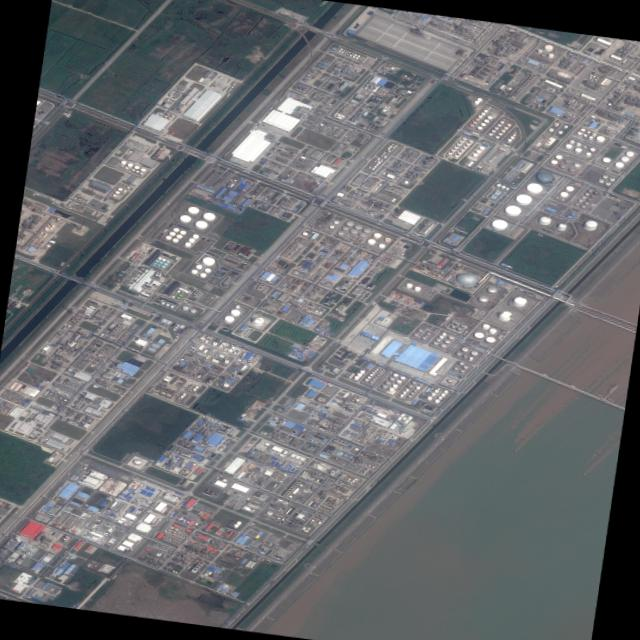storage-tank: (454, 271, 478, 287), (535, 170, 553, 182), (503, 204, 520, 215), (490, 218, 507, 229), (514, 193, 531, 204), (525, 182, 542, 193), (201, 211, 215, 220), (584, 219, 597, 228), (201, 256, 214, 265), (194, 219, 207, 228), (513, 296, 526, 305), (186, 205, 198, 214), (538, 215, 551, 223), (498, 310, 511, 318), (178, 214, 190, 222), (252, 316, 264, 324), (477, 295, 488, 302), (486, 286, 497, 293), (223, 315, 233, 322), (473, 331, 483, 338), (484, 336, 494, 343), (229, 309, 239, 315), (344, 220, 353, 226), (361, 227, 370, 233), (366, 238, 375, 244), (372, 232, 381, 238), (543, 44, 552, 50), (595, 135, 604, 141), (601, 157, 610, 163), (614, 161, 623, 167), (132, 458, 141, 464), (558, 222, 566, 228), (559, 191, 567, 197), (565, 185, 573, 191), (358, 231, 366, 237), (349, 228, 357, 234), (619, 156, 628, 161), (353, 224, 361, 229), (549, 159, 557, 164), (554, 154, 562, 159), (573, 147, 581, 152), (625, 151, 633, 156), (265, 510, 273, 515), (421, 161, 428, 166), (336, 230, 343, 235), (341, 225, 348, 230), (377, 243, 384, 248), (568, 167, 575, 172), (558, 163, 565, 168), (572, 162, 579, 167), (563, 158, 570, 163), (564, 143, 571, 148), (171, 237, 178, 242), (470, 350, 477, 355), (460, 346, 467, 351), (203, 267, 210, 272), (194, 264, 201, 269), (482, 323, 489, 328), (301, 231, 307, 236), (172, 227, 178, 232), (199, 272, 205, 277), (189, 308, 195, 313), (132, 165, 139, 169), (183, 242, 190, 246), (187, 238, 194, 242), (191, 234, 198, 238), (405, 283, 412, 287), (383, 237, 390, 241), (413, 286, 420, 290), (588, 147, 595, 151), (178, 230, 185, 234), (190, 269, 197, 273), (439, 343, 446, 347), (443, 339, 450, 343), (164, 235, 171, 239), (488, 328, 495, 332), (113, 190, 119, 194), (139, 167, 145, 171), (175, 234, 181, 238), (547, 127, 553, 131), (547, 53, 553, 57), (479, 122, 485, 126), (475, 149, 481, 153), (482, 119, 488, 123), (486, 115, 492, 119), (473, 100, 479, 104), (352, 375, 358, 379), (446, 378, 452, 382), (358, 369, 364, 373), (455, 351, 461, 355), (424, 331, 430, 335), (181, 305, 187, 309), (168, 231, 174, 235), (447, 335, 453, 339), (410, 380, 416, 384), (391, 383, 397, 387), (381, 384, 387, 388), (120, 160, 125, 164), (332, 220, 337, 224), (580, 204, 585, 208), (582, 201, 587, 205), (593, 190, 598, 194), (586, 188, 591, 192), (604, 181, 609, 185), (116, 187, 121, 191), (438, 270, 443, 274), (576, 131, 581, 135), (562, 124, 567, 128), (608, 177, 613, 181), (471, 120, 476, 124), (474, 117, 479, 121), (476, 97, 481, 101), (568, 139, 573, 143), (233, 523, 238, 527), (235, 520, 240, 524), (305, 526, 310, 530), (214, 272, 219, 276), (216, 269, 221, 273), (456, 326, 461, 330), (395, 379, 400, 383), (388, 387, 393, 391), (223, 359, 228, 363), (65, 324, 70, 328), (126, 163, 132, 166), (424, 159, 430, 162), (597, 179, 603, 182), (590, 132, 596, 135), (536, 49, 542, 52), (478, 146, 484, 149), (476, 126, 482, 129), (584, 152, 590, 155), (433, 399, 439, 402), (384, 381, 390, 384), (415, 385, 419, 389), (328, 225, 333, 228), (500, 185, 505, 188), (495, 183, 500, 186), (580, 196, 585, 199), (589, 195, 594, 198), (583, 192, 588, 195), (428, 156, 433, 159), (397, 191, 402, 194), (422, 263, 427, 266), (434, 269, 439, 272), (435, 274, 440, 277), (579, 128, 584, 131), (553, 122, 558, 125), (587, 135, 592, 138), (467, 139, 472, 142), (506, 138, 511, 141), (509, 135, 514, 138), (602, 175, 607, 178), (464, 142, 469, 145), (472, 153, 477, 156), (162, 114, 167, 117), (498, 120, 503, 123), (482, 109, 487, 112), (575, 142, 580, 145), (426, 396, 431, 399), (433, 389, 438, 392), (353, 447, 358, 450), (173, 528, 178, 531), (168, 526, 173, 529), (356, 373, 361, 376), (452, 367, 457, 370), (462, 365, 467, 368), (458, 361, 463, 364), (234, 305, 239, 308), (412, 333, 417, 336), (416, 328, 421, 331), (420, 336, 425, 339), (162, 262, 167, 265), (43, 227, 48, 230), (438, 335, 443, 338), (450, 324, 455, 327), (164, 260, 169, 263), (407, 384, 412, 387), (399, 376, 404, 379), (392, 373, 397, 376), (389, 377, 394, 380), (211, 342, 216, 345), (203, 339, 208, 342), (39, 110, 43, 113), (577, 199, 581, 202), (586, 198, 590, 201), (389, 188, 393, 191), (403, 180, 407, 183), (123, 166, 127, 169), (383, 258, 387, 261), (431, 272, 435, 275), (427, 265, 431, 268), (585, 130, 589, 133), (557, 130, 561, 133), (540, 53, 544, 56), (582, 134, 586, 137), (386, 149, 390, 152), (458, 140, 462, 143), (461, 137, 465, 140), (469, 123, 473, 126), (494, 135, 498, 138), (487, 132, 491, 135), (490, 129, 494, 132), (497, 132, 501, 135), (500, 129, 504, 132), (493, 126, 497, 129), (503, 126, 507, 129), (511, 133, 515, 136), (167, 116, 171, 119), (165, 112, 169, 115), (453, 154, 457, 157), (447, 151, 451, 154), (456, 151, 460, 154), (459, 148, 463, 151), (462, 145, 466, 148), (496, 123, 500, 126), (480, 112, 484, 115), (477, 115, 481, 118), (430, 392, 434, 395), (333, 438, 337, 441), (332, 426, 336, 429), (304, 529, 308, 532), (462, 354, 466, 357), (63, 535, 67, 538), (62, 537, 66, 540), (320, 307, 324, 310), (316, 306, 320, 309), (313, 309, 317, 312), (160, 301, 164, 304), (164, 303, 168, 306), (175, 296, 179, 299), (432, 341, 436, 344), (435, 338, 439, 341), (50, 224, 54, 227), (441, 332, 445, 335), (459, 324, 463, 327), (160, 258, 164, 261), (45, 244, 49, 247), (368, 373, 372, 376), (369, 380, 373, 383), (363, 378, 367, 381), (113, 328, 117, 331), (169, 114, 174, 116), (452, 146, 457, 148), (156, 257, 161, 259), (353, 190, 356, 193), (505, 187, 508, 190), (531, 74, 534, 77), (529, 76, 532, 79), (514, 92, 517, 95), (516, 90, 519, 93), (518, 88, 521, 91), (520, 86, 523, 89), (522, 84, 525, 87), (166, 98, 169, 101), (353, 477, 356, 480), (371, 465, 374, 468), (344, 442, 347, 445), (175, 532, 178, 535), (257, 286, 260, 289), (317, 287, 320, 290), (158, 261, 161, 264), (371, 371, 374, 374), (192, 348, 195, 351), (194, 385, 197, 388), (351, 193, 355, 195), (574, 203, 578, 205), (376, 161, 380, 163), (393, 190, 397, 192), (384, 187, 388, 189), (290, 243, 294, 245), (369, 257, 373, 259), (111, 194, 115, 196), (138, 172, 142, 174), (385, 256, 389, 258), (523, 82, 527, 84), (525, 80, 529, 82), (450, 149, 454, 151), (506, 123, 510, 125), (290, 486, 294, 488), (295, 480, 299, 482), (310, 519, 314, 521), (366, 464, 370, 466), (437, 396, 441, 398), (440, 393, 444, 395), (443, 390, 447, 392), (328, 425, 332, 427), (80, 421, 84, 423), (58, 397, 62, 399), (409, 392, 413, 394), (307, 522, 311, 524), (459, 370, 463, 372), (468, 357, 472, 359), (194, 566, 198, 568), (196, 564, 200, 566), (407, 395, 411, 397), (412, 389, 416, 391), (317, 311, 321, 313), (160, 265, 164, 267), (154, 260, 158, 262), (169, 305, 173, 307), (178, 294, 182, 296), (48, 227, 52, 229), (48, 222, 52, 224), (453, 322, 457, 324), (354, 399, 358, 401), (73, 346, 77, 348), (418, 383, 422, 385), (404, 388, 408, 390), (402, 391, 406, 393), (366, 376, 370, 378), (190, 350, 194, 352), (173, 326, 177, 328), (115, 326, 119, 328), (179, 395, 183, 397), (181, 393, 185, 395), (76, 363, 80, 365), (357, 192, 360, 194), (169, 132, 172, 134), (170, 130, 173, 132), (266, 134, 269, 136), (345, 200, 348, 202), (342, 199, 345, 201), (317, 224, 320, 226), (382, 156, 385, 158), (373, 165, 376, 167), (376, 158, 379, 160), (379, 154, 382, 156), (352, 242, 355, 244), (354, 243, 357, 245), (358, 239, 361, 241), (355, 238, 358, 240), (229, 244, 232, 246), (230, 242, 233, 244), (282, 252, 285, 254), (284, 250, 287, 252), (285, 249, 288, 251), (287, 247, 290, 249), (289, 245, 292, 247), (371, 255, 374, 257), (387, 260, 390, 262), (121, 191, 124, 193), (122, 189, 125, 191), (125, 186, 128, 188), (120, 165, 123, 167), (131, 169, 134, 171), (135, 170, 138, 172), (389, 258, 392, 260), (550, 89, 553, 91), (399, 97, 402, 99), (354, 69, 357, 71), (492, 59, 495, 61), (607, 103, 610, 105), (512, 94, 515, 96), (528, 79, 531, 81), (351, 55, 354, 57), (353, 53, 356, 55), (348, 54, 351, 56), (623, 59, 626, 61), (621, 60, 624, 62), (591, 75, 594, 77), (617, 121, 620, 123), (386, 147, 389, 149), (391, 146, 394, 148), (388, 145, 391, 147), (390, 143, 393, 145), (456, 143, 459, 145), (547, 141, 550, 143), (549, 139, 552, 141), (299, 85, 302, 87), (307, 72, 310, 74), (311, 69, 314, 71), (487, 106, 490, 108), (582, 146, 585, 148), (283, 493, 286, 495), (285, 491, 288, 493), (287, 489, 290, 491), (292, 484, 295, 486), (294, 482, 297, 484), (301, 473, 304, 475), (303, 471, 306, 473), (347, 478, 350, 480), (334, 457, 337, 459), (175, 450, 178, 452), (373, 464, 376, 466), (374, 453, 377, 455), (436, 387, 439, 389), (366, 415, 369, 417), (340, 441, 343, 443), (337, 440, 340, 442), (325, 423, 328, 425), (62, 399, 65, 401), (309, 521, 312, 523), (175, 542, 178, 544), (170, 540, 173, 542), (167, 539, 170, 541), (164, 538, 167, 540), (179, 534, 182, 536), (172, 531, 175, 533), (167, 529, 170, 531), (198, 562, 201, 564), (171, 570, 174, 572), (192, 568, 195, 570), (276, 517, 279, 519), (311, 524, 314, 526), (260, 284, 263, 286), (282, 284, 285, 286), (283, 282, 286, 284), (286, 278, 289, 280), (288, 277, 291, 279), (313, 286, 316, 288), (152, 262, 155, 264), (171, 295, 174, 297), (172, 294, 175, 296), (174, 292, 177, 294), (180, 291, 183, 293), (176, 290, 179, 292), (37, 239, 40, 241), (35, 236, 38, 238), (42, 235, 45, 237), (43, 233, 46, 235), (39, 231, 42, 233), (46, 224, 49, 226), (56, 217, 59, 219), (34, 243, 37, 245), (156, 264, 159, 266), (373, 370, 376, 372), (376, 366, 379, 368), (350, 399, 353, 401), (349, 374, 352, 376), (181, 400, 184, 402), (378, 372, 381, 374), (375, 374, 378, 376), (399, 394, 402, 396), (371, 378, 374, 380), (373, 376, 376, 378), (209, 348, 212, 350), (172, 328, 175, 330), (175, 324, 178, 326), (111, 331, 114, 333), (118, 323, 121, 325), (75, 340, 78, 342), (78, 341, 81, 343), (71, 320, 74, 322), (192, 388, 195, 390), (190, 384, 193, 386), (84, 356, 87, 358), (94, 361, 97, 363), (92, 363, 95, 365), (90, 364, 93, 366), (79, 361, 82, 363), (82, 358, 85, 360), (268, 136, 270, 138), (266, 135, 268, 137), (305, 161, 307, 163), (238, 197, 240, 199), (555, 196, 557, 198), (371, 167, 373, 169), (368, 166, 370, 168), (375, 163, 377, 165), (373, 160, 375, 162), (379, 159, 381, 161), (357, 243, 359, 245), (360, 238, 362, 240), (365, 257, 367, 259), (228, 245, 230, 247), (396, 101, 398, 103), (400, 96, 402, 98), (365, 84, 367, 86), (520, 59, 522, 61), (568, 113, 570, 115), (359, 56, 361, 58), (350, 52, 352, 54), (347, 51, 349, 53), (346, 53, 348, 55), (343, 52, 345, 54), (345, 50, 347, 52), (342, 49, 344, 51), (589, 74, 591, 76), (513, 131, 515, 133), (546, 144, 548, 146), (544, 143, 546, 145), (314, 93, 316, 95), (363, 105, 365, 107), (271, 475, 273, 477), (330, 471, 332, 473), (277, 477, 279, 479), (370, 463, 372, 465), (71, 383, 73, 385), (73, 384, 75, 386), (75, 386, 77, 388), (72, 385, 74, 387), (174, 571, 176, 573), (278, 507, 280, 509), (313, 522, 315, 524), (39, 238, 41, 240), (36, 241, 38, 243), (44, 247, 46, 249), (380, 370, 382, 372), (375, 368, 377, 370), (348, 376, 350, 378), (160, 394, 162, 396), (183, 399, 185, 401), (185, 396, 187, 398), (169, 396, 171, 398), (196, 359, 198, 361), (207, 351, 209, 353), (201, 335, 203, 337), (86, 354, 88, 356), (187, 387, 189, 389), (92, 360, 94, 362), (348, 202, 351, 203), (560, 199, 563, 200), (357, 237, 360, 238), (312, 275, 315, 276), (292, 242, 295, 243), (369, 86, 372, 87), (551, 88, 554, 89), (356, 55, 359, 56), (354, 57, 357, 58), (340, 51, 343, 52), (593, 79, 596, 80), (352, 134, 355, 135), (302, 87, 305, 88), (309, 71, 312, 72), (364, 104, 367, 105), (289, 488, 292, 489), (351, 480, 354, 481), (322, 507, 325, 508), (179, 451, 182, 452), (184, 453, 187, 454), (279, 475, 282, 476), (212, 375, 215, 376), (186, 567, 189, 568), (31, 240, 34, 241), (33, 238, 36, 239), (40, 237, 43, 238), (186, 395, 189, 396), (170, 395, 173, 396), (188, 386, 191, 387), (87, 358, 90, 359), (271, 136, 273, 137), (269, 135, 271, 136), (270, 137, 272, 138), (307, 163, 309, 164), (302, 161, 304, 162), (272, 208, 274, 209), (239, 199, 241, 200), (240, 198, 242, 199), (239, 197, 241, 198), (356, 195, 358, 196), (335, 217, 337, 218), (273, 210, 275, 211), (274, 209, 276, 210), (271, 209, 273, 210), (301, 160, 303, 161), (304, 159, 306, 160), (309, 161, 311, 162), (384, 155, 386, 156), (381, 153, 383, 154), (386, 153, 388, 154), (238, 200, 240, 201), (355, 255, 357, 256), (363, 257, 365, 258), (366, 257, 368, 258), (364, 256, 366, 257), (310, 277, 312, 278), (311, 276, 313, 277), (369, 259, 371, 260), (272, 212, 274, 213), (270, 211, 272, 212), (120, 194, 122, 195), (118, 165, 120, 166), (549, 87, 551, 88), (397, 100, 399, 101), (398, 99, 400, 100), (358, 69, 360, 70), (356, 68, 358, 69), (353, 67, 355, 68), (348, 65, 350, 66), (572, 115, 574, 116), (433, 23, 435, 24), (430, 22, 432, 23), (358, 58, 360, 59), (337, 50, 339, 51), (435, 24, 437, 25), (431, 21, 433, 22), (595, 77, 597, 78), (588, 77, 590, 78), (572, 70, 574, 71), (436, 23, 438, 24), (573, 68, 575, 69), (574, 67, 576, 68), (575, 66, 577, 67), (394, 145, 396, 146), (486, 108, 488, 109), (313, 95, 315, 96), (274, 473, 276, 474), (349, 476, 351, 477), (331, 470, 333, 471), (272, 474, 274, 475), (277, 474, 279, 475), (276, 475, 278, 476), (320, 506, 322, 507), (186, 445, 188, 446), (183, 444, 185, 445), (181, 443, 183, 444), (177, 442, 179, 443), (182, 452, 184, 453), (187, 454, 189, 455), (281, 478, 283, 479), (280, 479, 282, 480), (278, 476, 280, 477), (274, 477, 276, 478), (67, 382, 69, 383), (251, 361, 253, 362), (248, 360, 250, 361), (233, 371, 235, 372), (210, 374, 212, 375), (208, 373, 210, 374), (226, 371, 228, 372), (227, 370, 229, 371), (228, 369, 230, 370), (69, 383, 71, 384), (364, 415, 366, 416), (76, 385, 78, 386), (70, 385, 72, 386), (67, 384, 69, 385), (65, 383, 67, 384), (326, 508, 328, 509), (173, 539, 175, 540), (175, 540, 177, 541), (177, 541, 179, 542), (173, 542, 175, 543), (182, 536, 184, 537), (118, 509, 120, 510), (187, 566, 189, 567), (273, 515, 275, 516), (65, 524, 67, 525), (58, 516, 60, 517), (121, 506, 123, 507), (119, 504, 121, 505), (120, 503, 122, 504), (57, 517, 59, 518), (78, 521, 80, 522), (77, 522, 79, 523), (75, 524, 76, 526), (37, 235, 39, 236), (38, 234, 40, 235), (30, 241, 32, 242), (29, 243, 31, 244), (33, 245, 35, 246), (151, 264, 153, 265), (381, 369, 383, 370), (352, 398, 354, 399), (353, 397, 355, 398), (351, 373, 353, 374), (185, 380, 187, 381), (184, 381, 186, 382), (162, 395, 164, 396), (184, 398, 186, 399), (208, 350, 210, 351), (177, 397, 179, 398), (188, 390, 190, 391), (186, 389, 188, 390), (339, 48, 341, 49), (236, 200, 237, 201), (237, 199, 238, 200), (238, 198, 239, 199), (241, 197, 242, 198), (307, 160, 308, 161), (238, 201, 239, 202), (351, 252, 352, 253), (356, 254, 357, 255), (357, 253, 358, 254), (364, 259, 365, 260), (365, 258, 366, 259), (367, 261, 368, 262), (368, 260, 369, 261), (121, 193, 122, 194), (383, 152, 384, 153), (624, 62, 625, 63), (623, 63, 624, 64), (628, 61, 629, 62), (627, 61, 628, 62), (627, 62, 628, 63), (432, 22, 433, 23), (360, 59, 361, 60), (433, 21, 434, 22), (626, 63, 627, 64), (435, 22, 436, 23), (325, 508, 326, 509), (180, 442, 181, 443), (80, 523, 81, 524), (79, 524, 80, 525), (116, 508, 117, 509), (121, 507, 122, 508), (275, 516, 276, 517), (118, 506, 119, 507), (119, 505, 120, 506), (122, 505, 123, 506), (123, 504, 124, 505), (59, 516, 60, 517), (67, 522, 68, 523), (77, 523, 78, 524), (70, 519, 71, 520), (68, 521, 69, 522), (625, 64, 626, 64), (77, 526, 78, 526), (120, 508, 121, 508), (117, 507, 118, 507), (66, 523, 67, 523), (69, 520, 70, 520), (69, 520, 69, 521)
